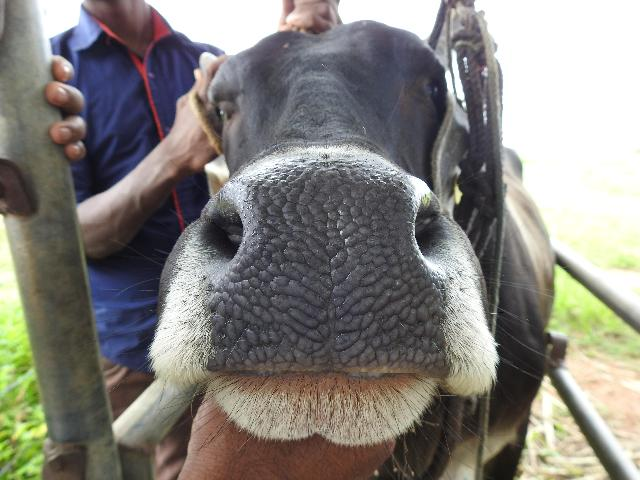Muzzle: (258, 174, 412, 350)
